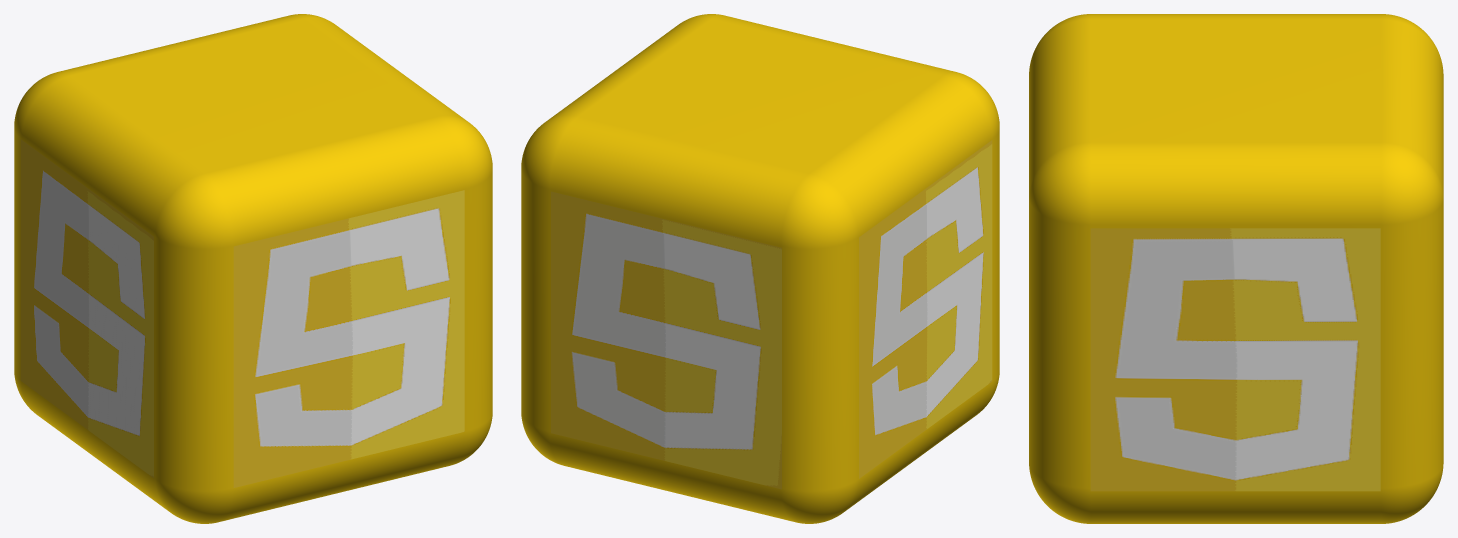
The picture shows the model from 3 angles, left to right: view 1: azimuth 30°, elevation 25°; view 2: azimuth 150°, elevation 25°; view 3: azimuth 270°, elevation 25°; orthographic projection. The views are drawn at different scales.
Visible parts, largest first — view 1: Cube.004, Plane.024, Plane.029; view 2: Cube.004, Plane.028, Plane.029; view 3: Cube.004, Plane.025.
Part boxes in pixels (bbox=[...]): Cube.004: bbox=[14, 14, 492, 523]; Plane.024: bbox=[233, 190, 464, 487]; Plane.029: bbox=[20, 139, 153, 477]; Cube.004: bbox=[521, 14, 999, 523]; Plane.028: bbox=[551, 191, 781, 489]; Plane.029: bbox=[859, 140, 992, 478]; Cube.004: bbox=[1029, 14, 1443, 523]; Plane.025: bbox=[1090, 228, 1380, 491].
Size of the model in its own units: 2 by 2 by 2.
5 materials, 4 textured.
